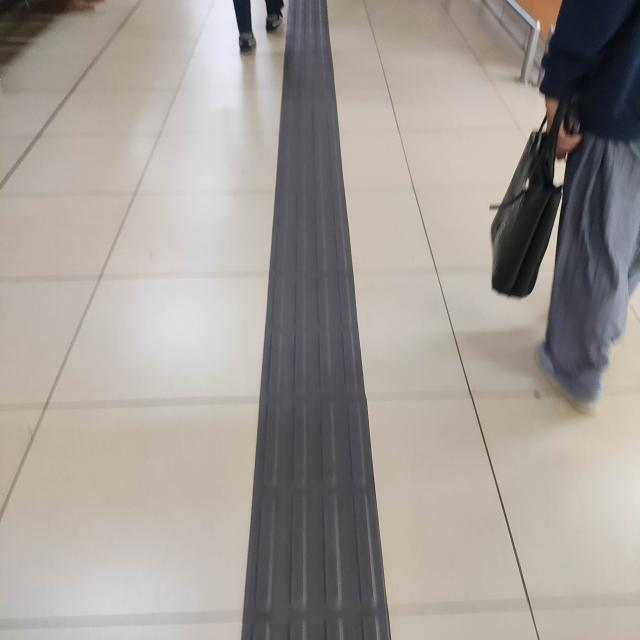lurus: (256, 0, 381, 640)
